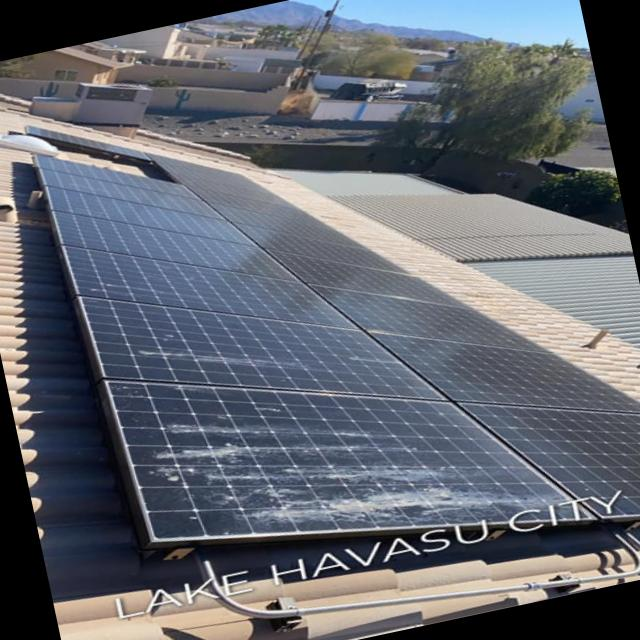faulty: (64, 246, 591, 543)
